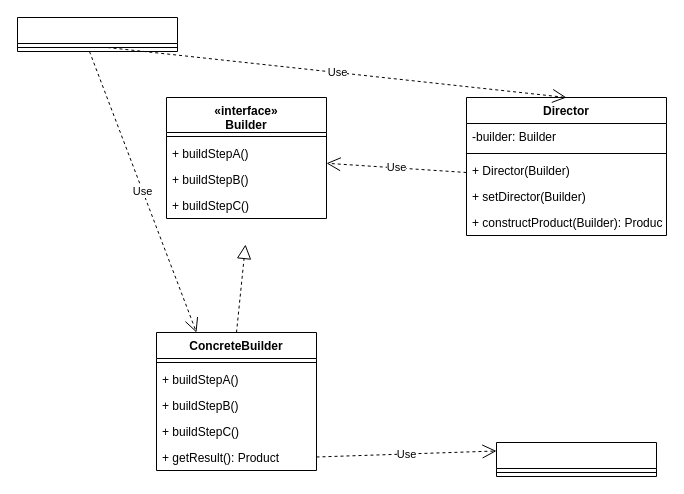
The diagram is 684 pixels wide and 494 high, and some of its shapes have lost their labels. Here are the shapes that lost their labels. From the top down, the centre of each, then its label:
At point (97, 34): "Client".
At point (576, 459): "Product".
